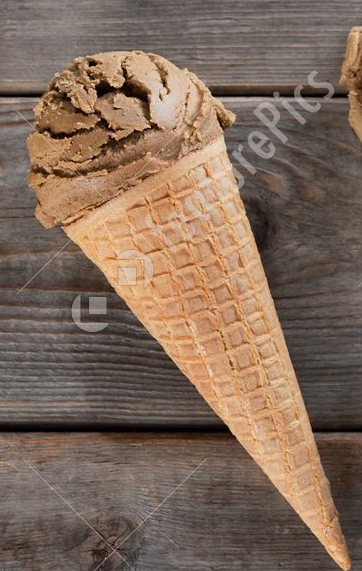ice-cream: (27, 50, 227, 228)
